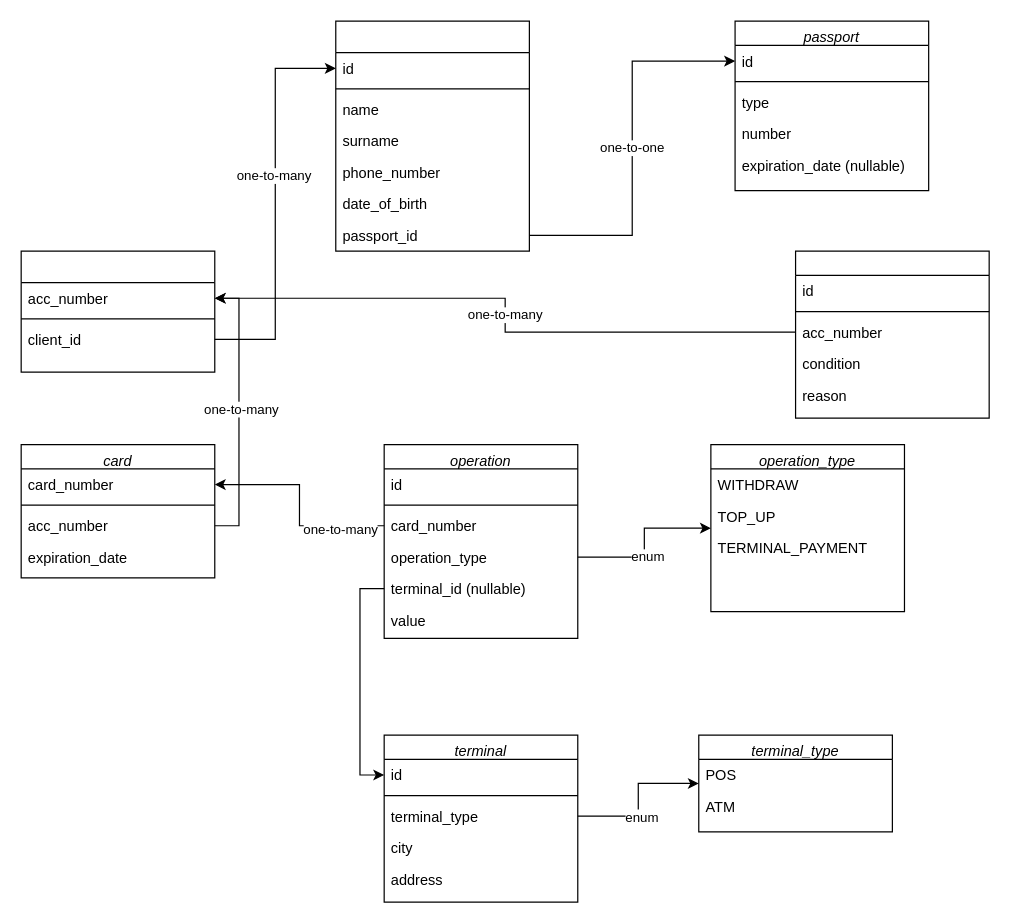
The diagram is 1010 pixels wide and 923 high, and some of its shapes have lost their labels. The shapes that lost their labels are listed below. From the top down, each one's box as (x1, y1, x2, y2) in pixels, then its label:
(335, 20, 529, 251): client
(20, 250, 215, 372): account
(794, 250, 989, 418): special_sale
